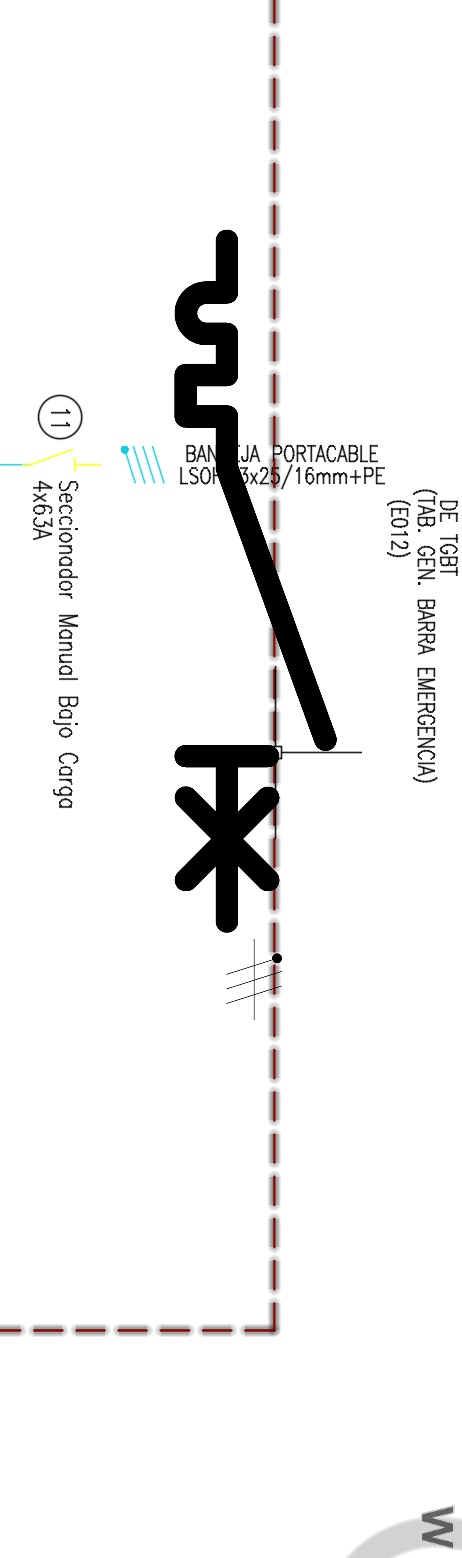interruptor_termomagnetico: (168, 223, 343, 938)
